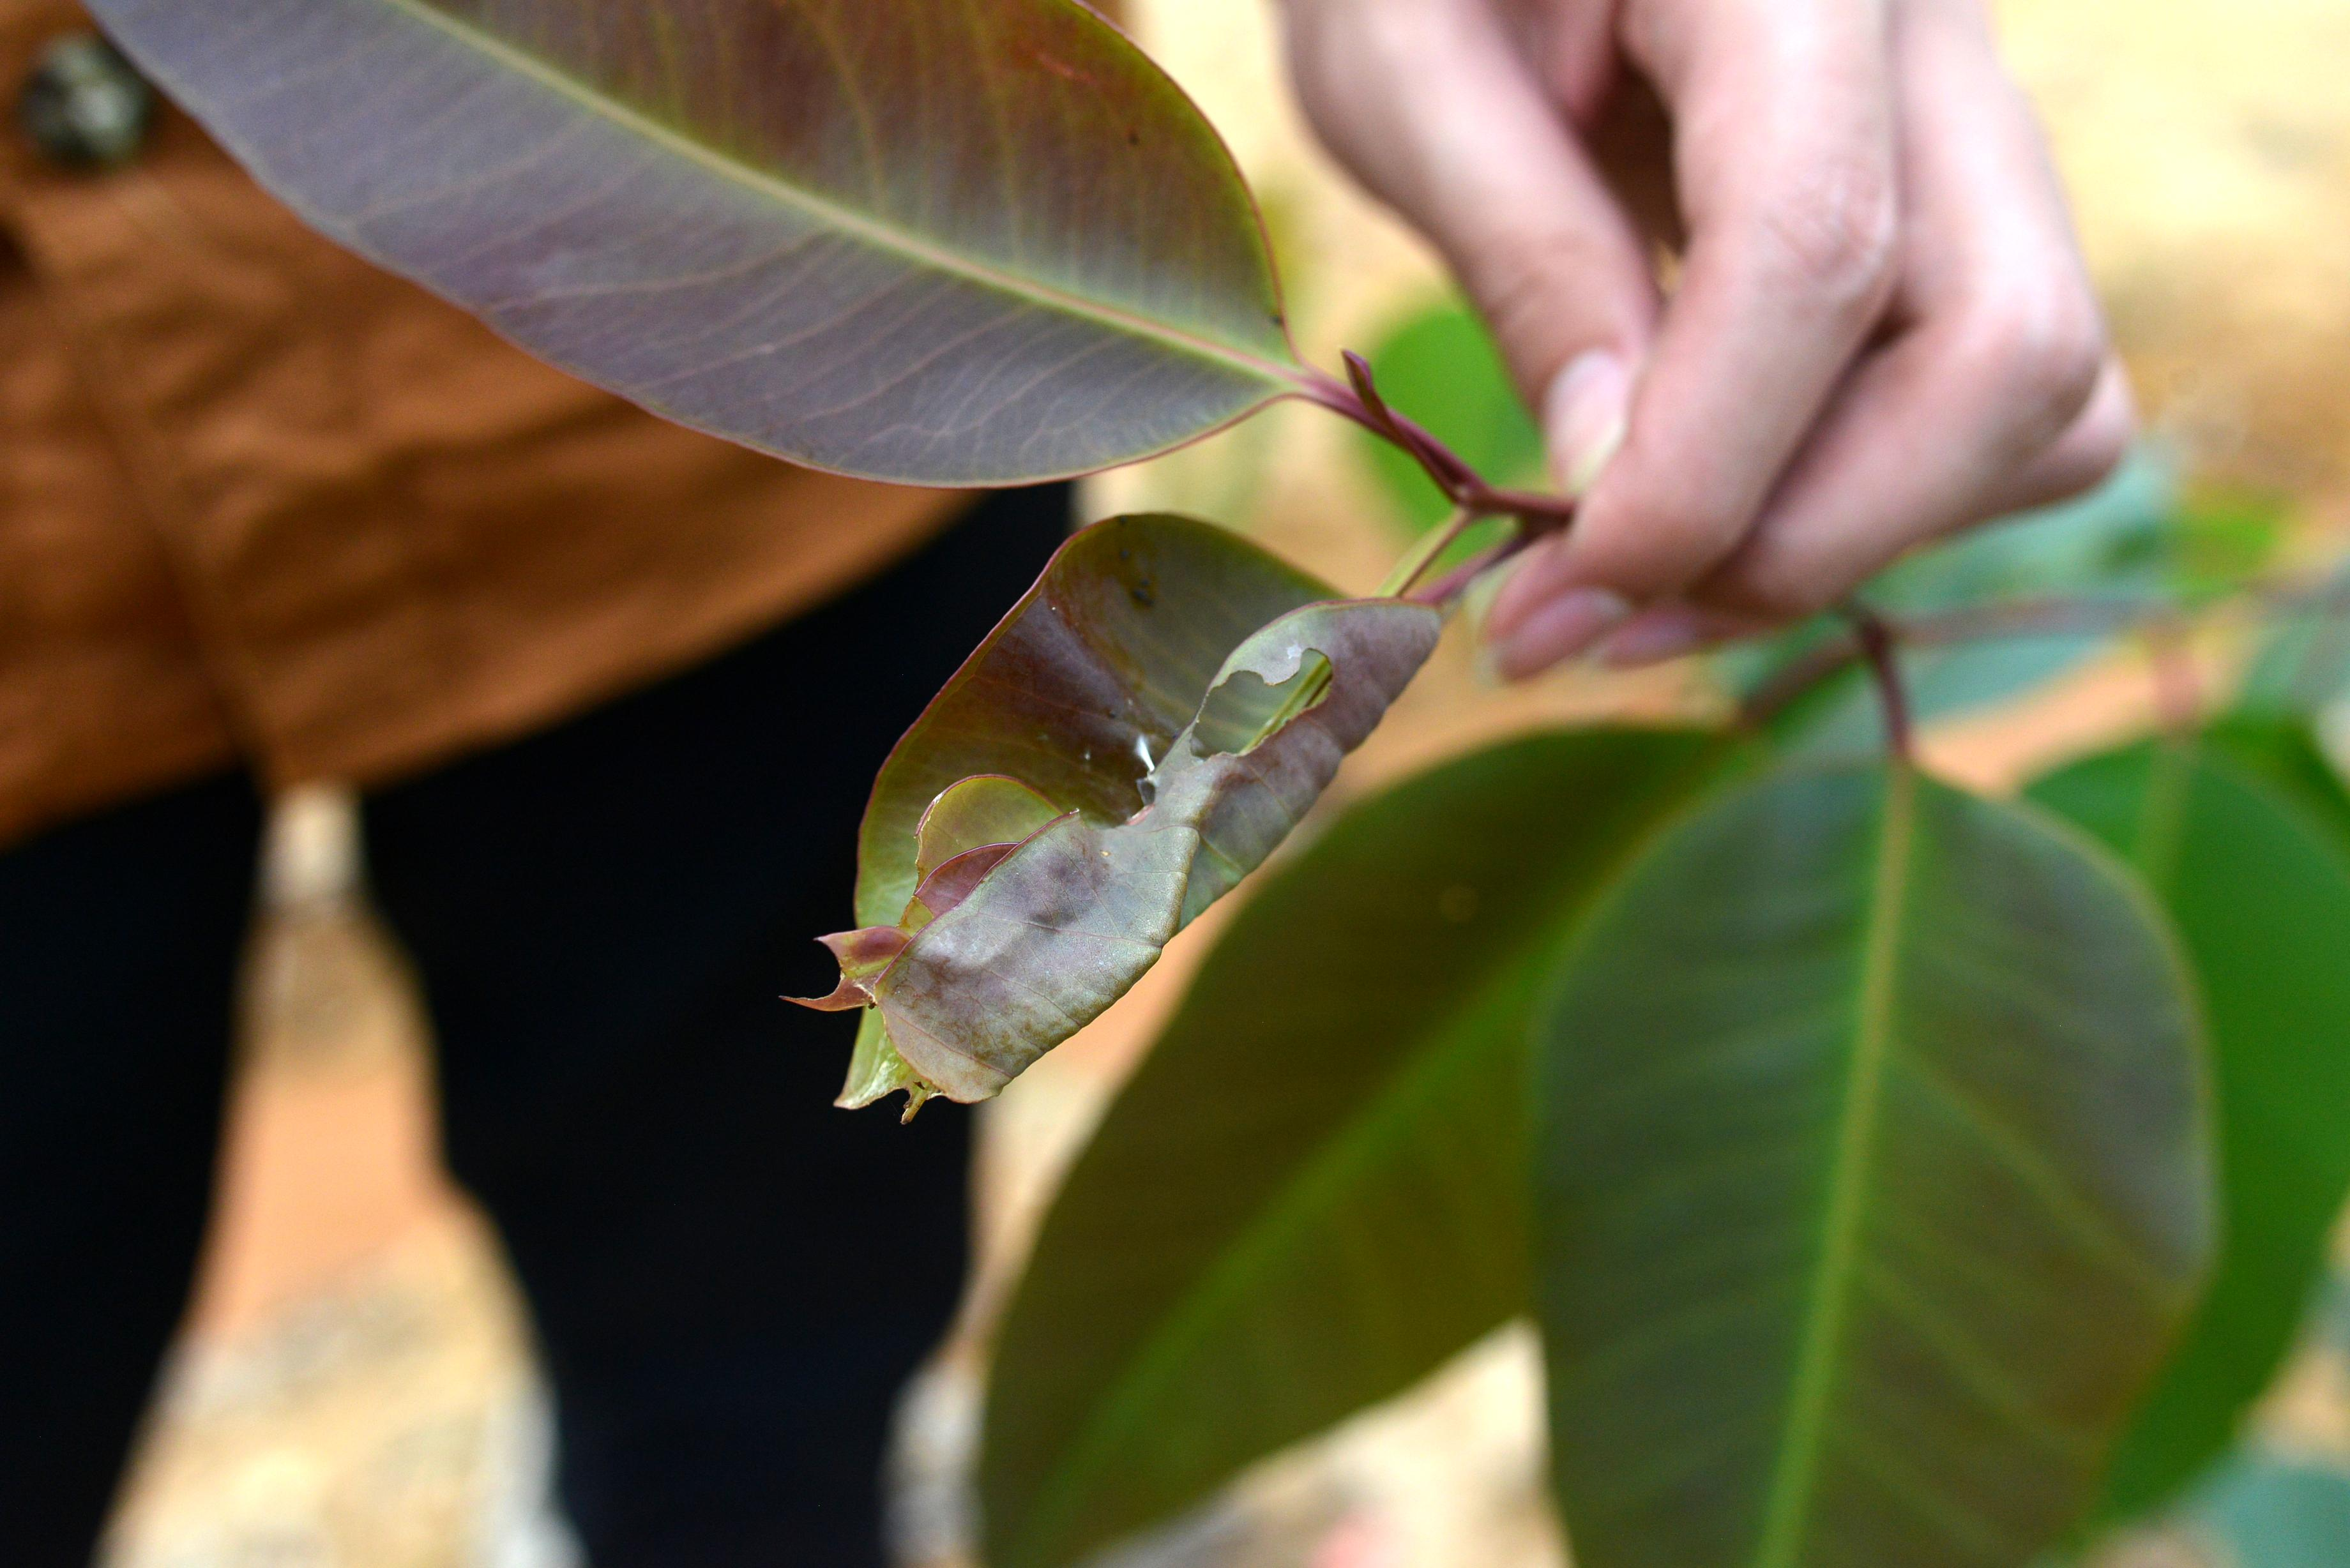Leaf Roller - Leaf: (784, 513, 1445, 1129)
